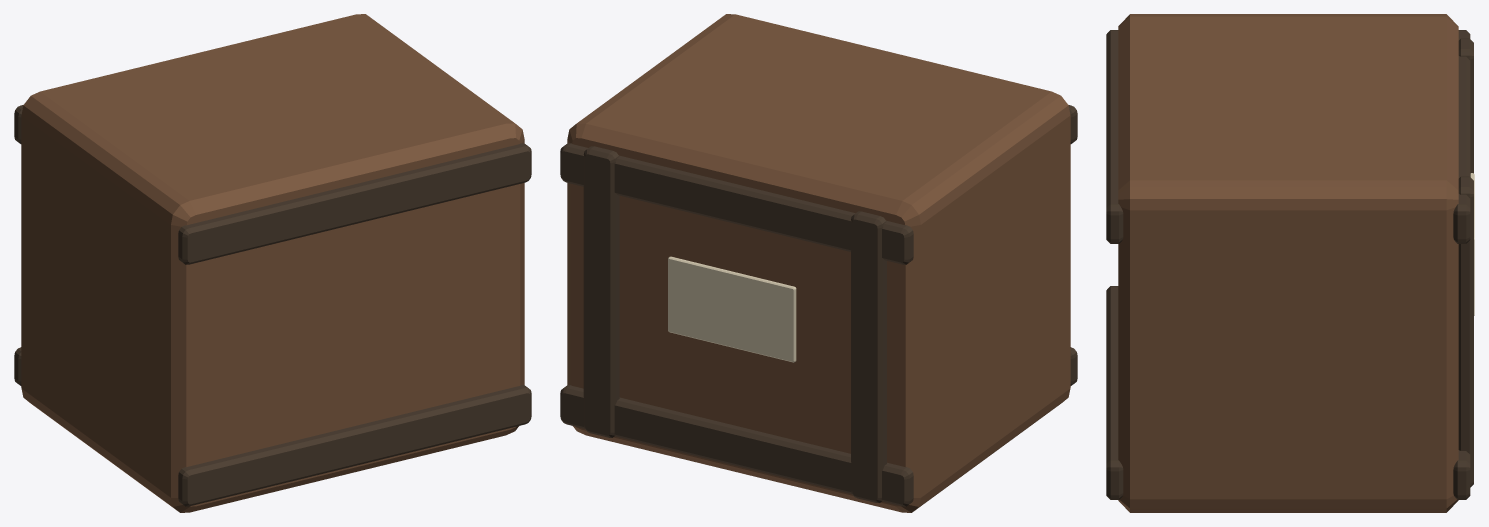
Rendered from crate.glb.
3 renders of one model, left to right at view 1: azimuth 30°, elevation 25°; view 2: azimuth 150°, elevation 25°; view 3: azimuth 270°, elevation 25°, orthographic. The views are drawn at different scales.
Parts seen in each view (by area): view 1: crate; view 2: crate; view 3: crate.
Part boxes in pixels (bbox=[...]): crate: bbox=[14, 14, 531, 512]; crate: bbox=[560, 14, 1077, 512]; crate: bbox=[1106, 14, 1474, 512].
Size of the model in its own units: 1.27 by 1.07 by 1.08.
